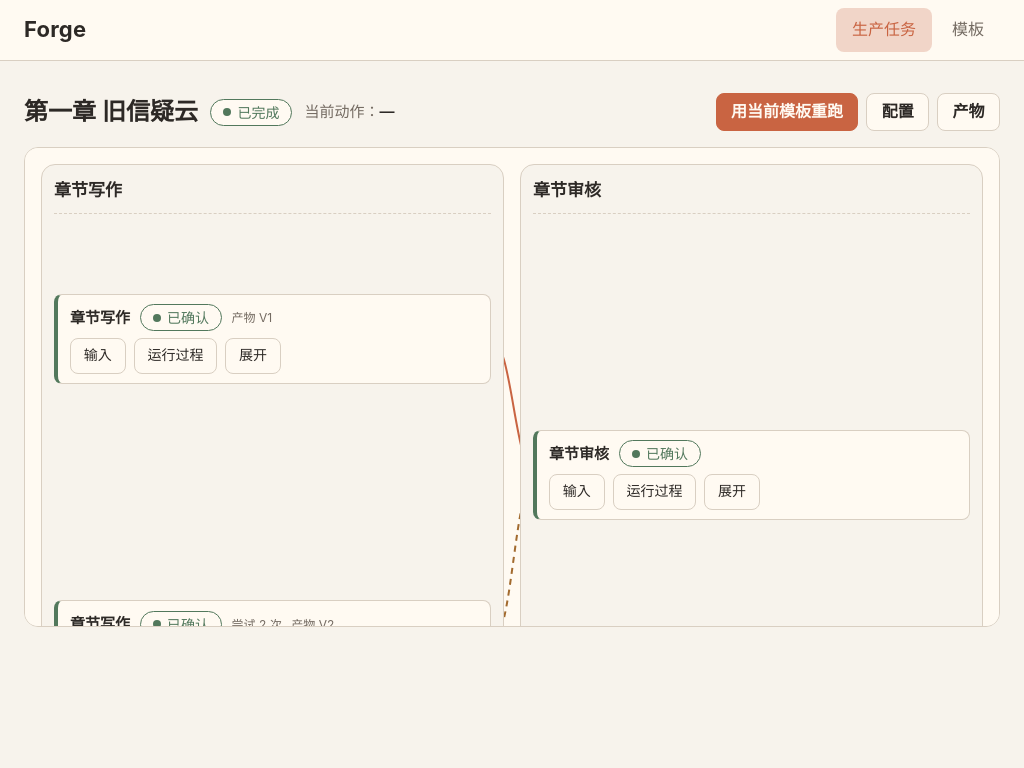
it: ProductionPage › starts with both drawers closed and opens them as overlays on demand
Expected: the element with test id "workspace-canvas" is shown, [24,147,1000,627]
Expected: the element "产物版本" is not shown
// Opening a drawer overlays the canvas instead of pushing it.
Step 1. Click the button "产物" → (969, 112), box [937,93,1000,131]
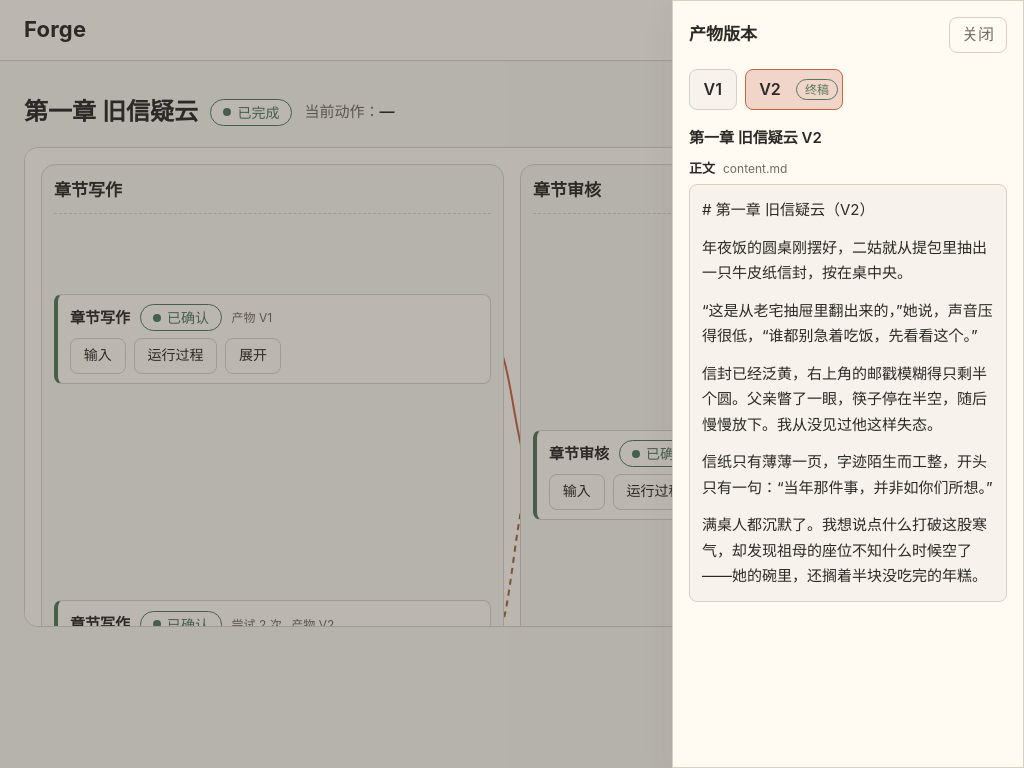
Now the element "产物版本" is shown, box [672,0,1023,767]
Now the element with class "fc-drawer-backdrop" is shown
Now the button "V1" is shown, box [694,72,732,106]
